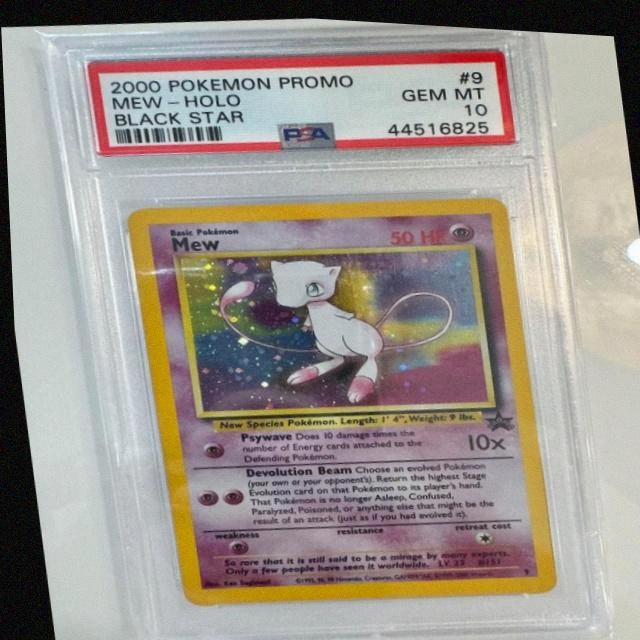card: (124, 190, 553, 604)
